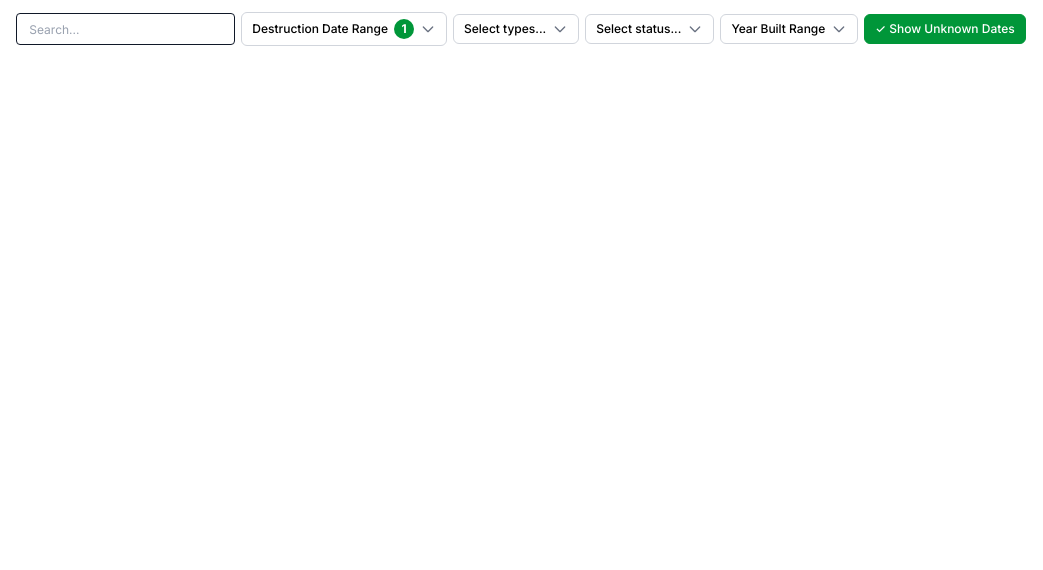
Scenario: FilterBar — baseline behavior › the type filter offers a checkbox for every site type
Click the button "Select types..." at (516, 29), box [453,14,579,44]
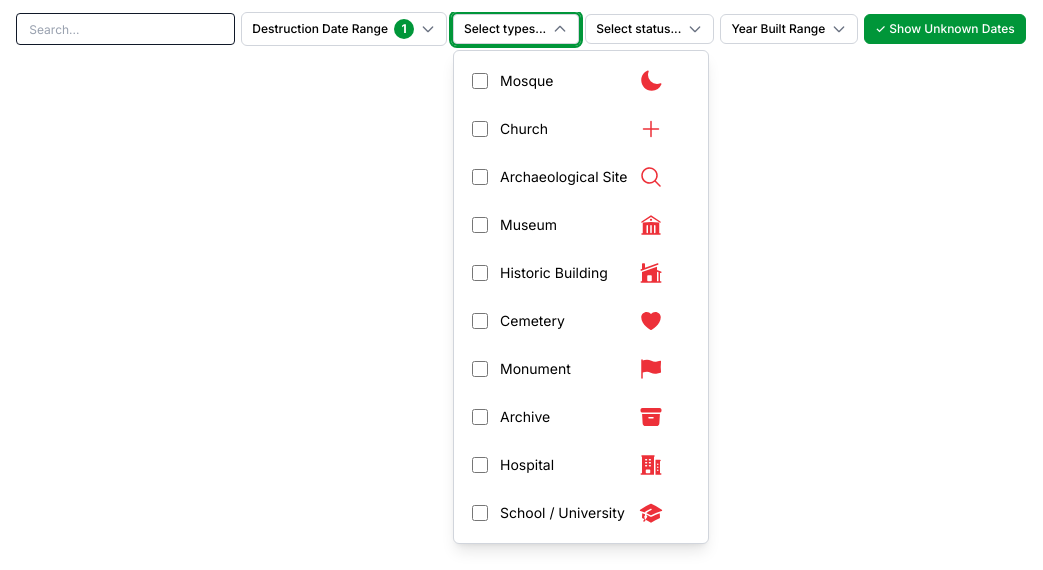
Expected: the number of checkboxes is 10
